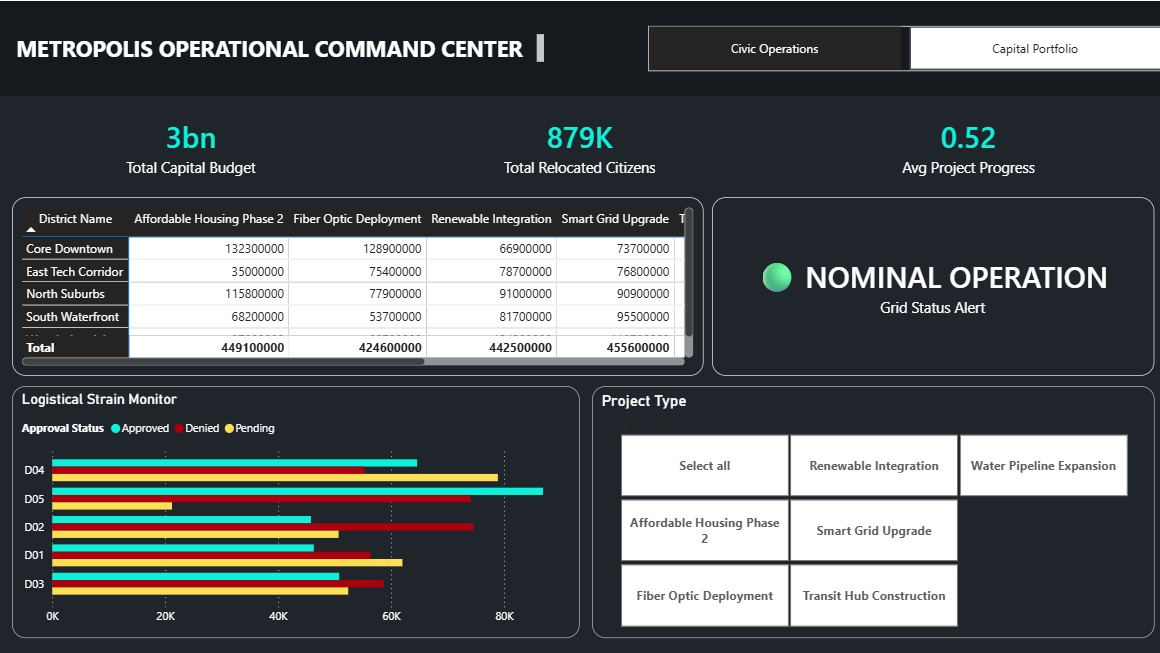

This screenshot's page, from the dashboard's own definition file:
{"tool":"powerbi","page":{"name":"Civic Operations","canvas":[1280,720],"ordinal":0},"visuals":[{"type":"shape","box":[0,0,1280.3,104.3],"z":0},{"type":"textbox","box":[16.5,31.6,588.7,41.2],"z":1000},{"type":"cardVisual","fields":{"Data":["Infrastructure_Projects.Total Capital Budget"]},"box":[0,104.3,426.8,111.1],"z":2000},{"type":"cardVisual","fields":{"Data":["Relocation_Logs.Total Relocated Citizens"]},"box":[426.8,104.3,426.8,111.1],"z":3000},{"type":"cardVisual","fields":{"Data":["Infrastructure_Projects.Avg Project Progress"]},"box":[853.5,104.3,426.8,111.1],"z":4000},{"type":"pivotTable","fields":{"Rows":["City_Metrics.District Name"],"Columns":["Infrastructure_Projects.Project Type"],"Values":["Infrastructure_Projects.Total Capital Budget"]},"box":[16.5,215.4,758.8,196.2],"z":5000},{"type":"clusteredBarChart","title":"Logistical Strain Monitor","fields":{"Category":["Relocation_Logs.Source District ID"],"Y":["Relocation_Logs.Total Relocated Citizens"],"Series":["Relocation_Logs.Approval Status"]},"box":[16.5,422.6,623,277.2],"z":6000},{"type":"cardVisual","fields":{"Data":["City_Metrics.Grid Status Alert"]},"box":[784.9,215.4,485.8,196.2],"z":7000},{"type":"slicer","title":"Project Type","fields":{"Values":["Infrastructure_Projects.Project Type"]},"box":[653.2,422.6,617.5,277.2],"z":8000},{"type":"pageNavigator","box":[714.9,27.4,565.4,49.4],"z":8001}]}

Visuals, with their boxes in screenshot pixels (x1, y1, x2, y2), scaled from the page's 1280x720 canvas onto the 1160x653 screenshot:
shape: {"left": 0, "top": 0, "right": 1159, "bottom": 95}
textbox: {"left": 15, "top": 29, "right": 548, "bottom": 66}
cardVisual - Infrastructure_Projects.Total Capital Budget: {"left": 0, "top": 95, "right": 387, "bottom": 195}
cardVisual - Relocation_Logs.Total Relocated Citizens: {"left": 387, "top": 95, "right": 774, "bottom": 195}
cardVisual - Infrastructure_Projects.Avg Project Progress: {"left": 773, "top": 95, "right": 1159, "bottom": 195}
pivotTable - City_Metrics.District Name x Infrastructure_Projects.Project Type: {"left": 15, "top": 195, "right": 703, "bottom": 373}
"Logistical Strain Monitor" clusteredBarChart: {"left": 15, "top": 383, "right": 580, "bottom": 635}
cardVisual - City_Metrics.Grid Status Alert: {"left": 711, "top": 195, "right": 1152, "bottom": 373}
"Project Type" slicer: {"left": 592, "top": 383, "right": 1152, "bottom": 635}
pageNavigator: {"left": 648, "top": 25, "right": 1159, "bottom": 70}
